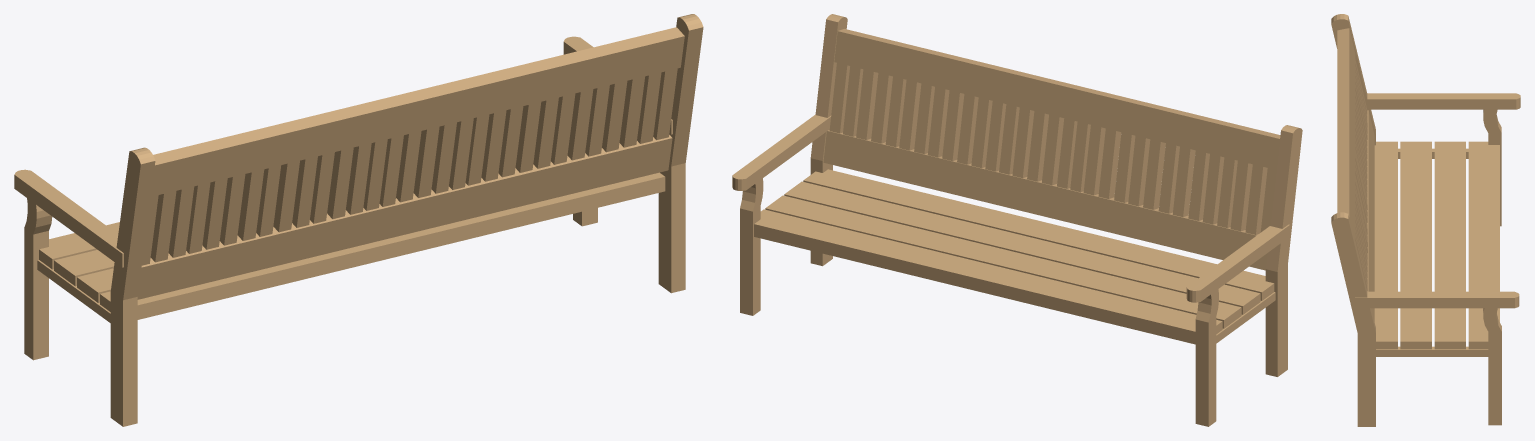
File: bench.obj
3 views of the same model, side by side, from view 1: azimuth 30°, elevation 25°; view 2: azimuth 150°, elevation 25°; view 3: azimuth 270°, elevation 25° (orthographic). The views are drawn at different scales.
Visible parts, largest first — view 1: backrest_1, backrest, Cube_1_3, backleg, backleg_1, frontleg_1, armrest_1, Cube_3_8, Cube_3_3, Cube_3_5, Cube_3_13, Cube_1_1 (+29 smaller); view 2: backrest_1, backrest, Cube_1_2, Cube_1_1, Cube_1, Cube_1_3, backleg, frontleg_1, frontleg, backleg_1, armrest_1, armrest (+32 smaller); view 3: Cube_1, Cube_1_1, Cube_1_2, Cube_1_3, backleg_1, backrest_1, armrest, armrest_1, frontleg, backrest, support, backleg (+1 smaller).
Part boxes in pixels (box(x1,y1,x2,y2)): backrest_1: box(150, 27, 684, 196); backrest: box(137, 135, 672, 299); Cube_1_3: box(100, 172, 665, 319); backleg: box(110, 147, 155, 426); backleg_1: box(658, 14, 703, 293); frontleg_1: box(24, 198, 52, 360); armrest_1: box(14, 169, 123, 267); Cube_3_8: box(327, 147, 353, 219); Cube_3_3: box(237, 169, 264, 240); Cube_3_5: box(273, 160, 299, 232); Cube_3_13: box(413, 126, 439, 197); Cube_1_1: box(54, 250, 114, 286); backrest_1: box(834, 29, 1280, 169); backrest: box(823, 130, 1267, 270); Cube_1_2: box(754, 209, 1222, 344); Cube_1_1: box(765, 195, 1241, 328); Cube_1: box(784, 181, 1260, 314); Cube_1_3: box(803, 169, 1274, 300); backleg: box(1265, 125, 1302, 376); frontleg_1: box(1195, 289, 1218, 426); frontleg: box(740, 178, 763, 315); backleg_1: box(810, 14, 847, 266); armrest_1: box(1186, 224, 1289, 302); armrest: box(732, 114, 831, 190); Cube_1: box(1400, 141, 1431, 349); Cube_1_1: box(1434, 141, 1465, 349); Cube_1_2: box(1468, 141, 1499, 349); Cube_1_3: box(1374, 141, 1397, 349); backleg_1: box(1331, 212, 1375, 426); backrest_1: box(1337, 28, 1355, 241); armrest: box(1355, 291, 1519, 308); armrest_1: box(1365, 93, 1520, 109); frontleg: box(1483, 308, 1501, 425); backrest: box(1367, 110, 1374, 321); support: box(1376, 346, 1488, 356); backleg: box(1331, 14, 1375, 145).
Size of the model in its own units: 3.72 by 1.77 by 1.46.
